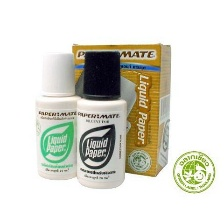book: (68, 40, 173, 179)
correction_fluid: (72, 48, 129, 191), (31, 49, 84, 182)
